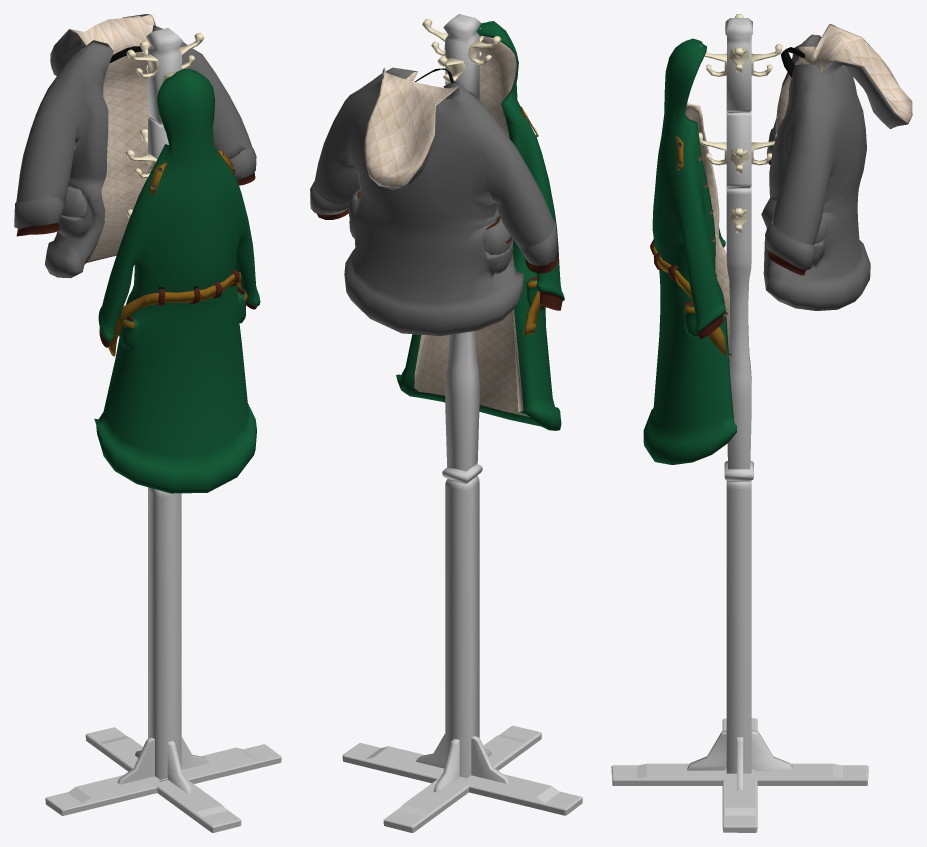
Rendered from CoatHangerExtraClean.fbx.
The picture shows the model from 3 angles, left to right: view 1: azimuth 30°, elevation 25°; view 2: azimuth 150°, elevation 25°; view 3: azimuth 270°, elevation 25°; orthographic projection.
Visible parts, largest first — view 1: CoatEXTRACLEAN, JacketEXTRACLEAN, CoatHangerEXTRACLEAN; view 2: JacketEXTRACLEAN, CoatHangerEXTRACLEAN, CoatEXTRACLEAN; view 3: CoatHangerEXTRACLEAN, JacketEXTRACLEAN, CoatEXTRACLEAN.
Boxes of the visible parts, <box> form: CoatEXTRACLEAN: <box>94,68,260,493</box>; JacketEXTRACLEAN: <box>14,14,256,278</box>; CoatHangerEXTRACLEAN: <box>45,28,281,832</box>; JacketEXTRACLEAN: <box>310,67,558,335</box>; CoatHangerEXTRACLEAN: <box>342,14,582,832</box>; CoatEXTRACLEAN: <box>396,21,564,430</box>; CoatHangerEXTRACLEAN: <box>611,14,868,832</box>; JacketEXTRACLEAN: <box>761,24,912,310</box>; CoatEXTRACLEAN: <box>643,38,736,464</box>.
Bounding box in the file's own units: 88.71 × 268 × 96.31.
